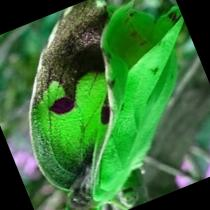butterfly: (28, 0, 183, 210)
